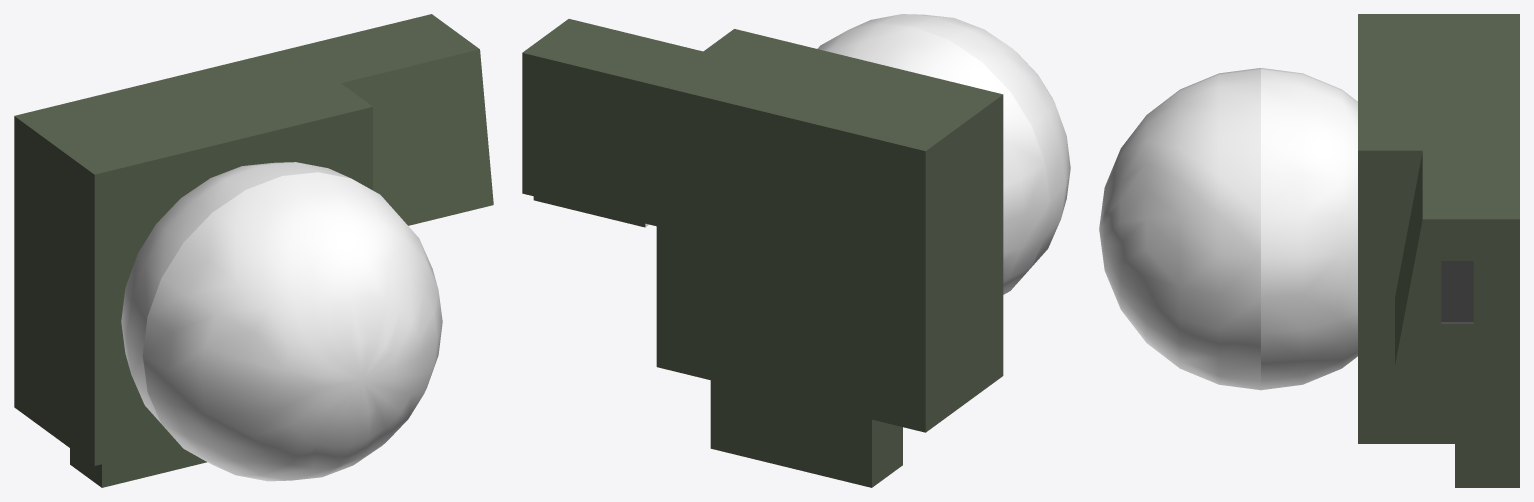
The model's file is mdr.dae.
3 renders of one model, left to right at view 1: azimuth 30°, elevation 25°; view 2: azimuth 150°, elevation 25°; view 3: azimuth 270°, elevation 25°, orthographic. The views are drawn at different scales.
Parts seen in each view (by area): view 1: coords_ME_ID31_MA_Color_F20, coords_ME_ID3_MA_Color_000; view 2: coords_ME_ID31_MA_Color_F20, coords_ME_ID3_MA_Color_000; view 3: coords_ME_ID31_MA_Color_F20, coords_ME_ID3_MA_Color_000, coords_ME_ID19_MA_material.
Part boxes in pixels (x1=…): coords_ME_ID31_MA_Color_F20: x1=14, y1=14, x2=493, y2=487; coords_ME_ID3_MA_Color_000: x1=121, y1=162, x2=442, y2=481; coords_ME_ID31_MA_Color_F20: x1=522, y1=19, x2=1003, y2=487; coords_ME_ID3_MA_Color_000: x1=817, y1=14, x2=1070, y2=294; coords_ME_ID31_MA_Color_F20: x1=1358, y1=14, x2=1519, y2=487; coords_ME_ID3_MA_Color_000: x1=1099, y1=68, x2=1357, y2=390; coords_ME_ID19_MA_material: x1=1441, y1=261, x2=1473, y2=323.
Bounding box in the file's own units: 165 × 137 × 143.
